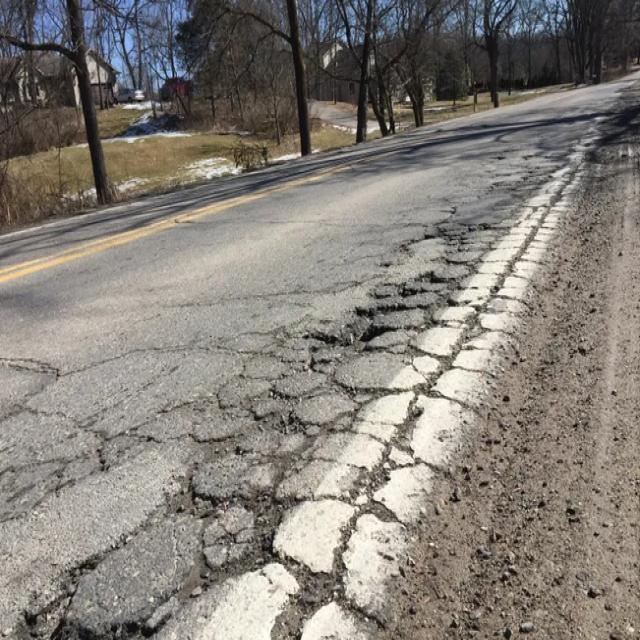Pothole: (29, 116, 640, 640)
